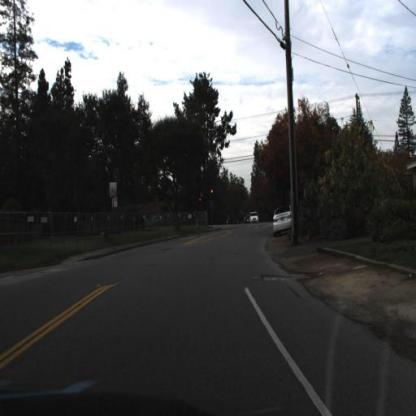car: (271, 200, 302, 242), (249, 208, 263, 231)
trafficLight-Red: (209, 186, 215, 202)
